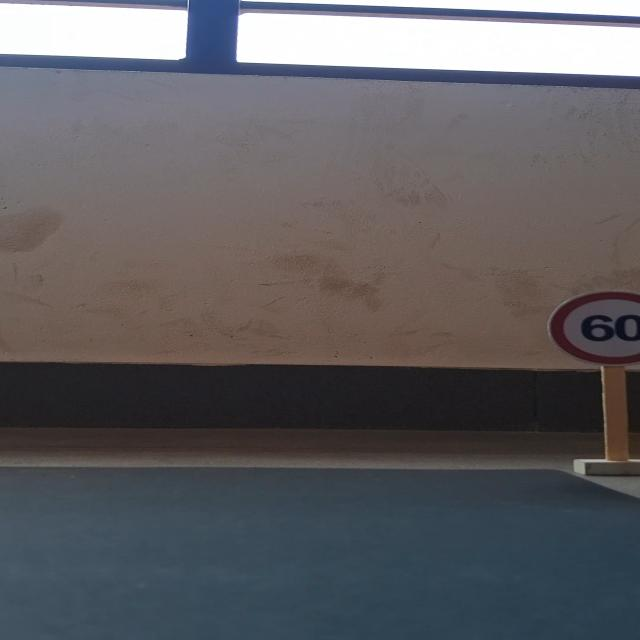Speed60: (542, 290, 640, 368)
